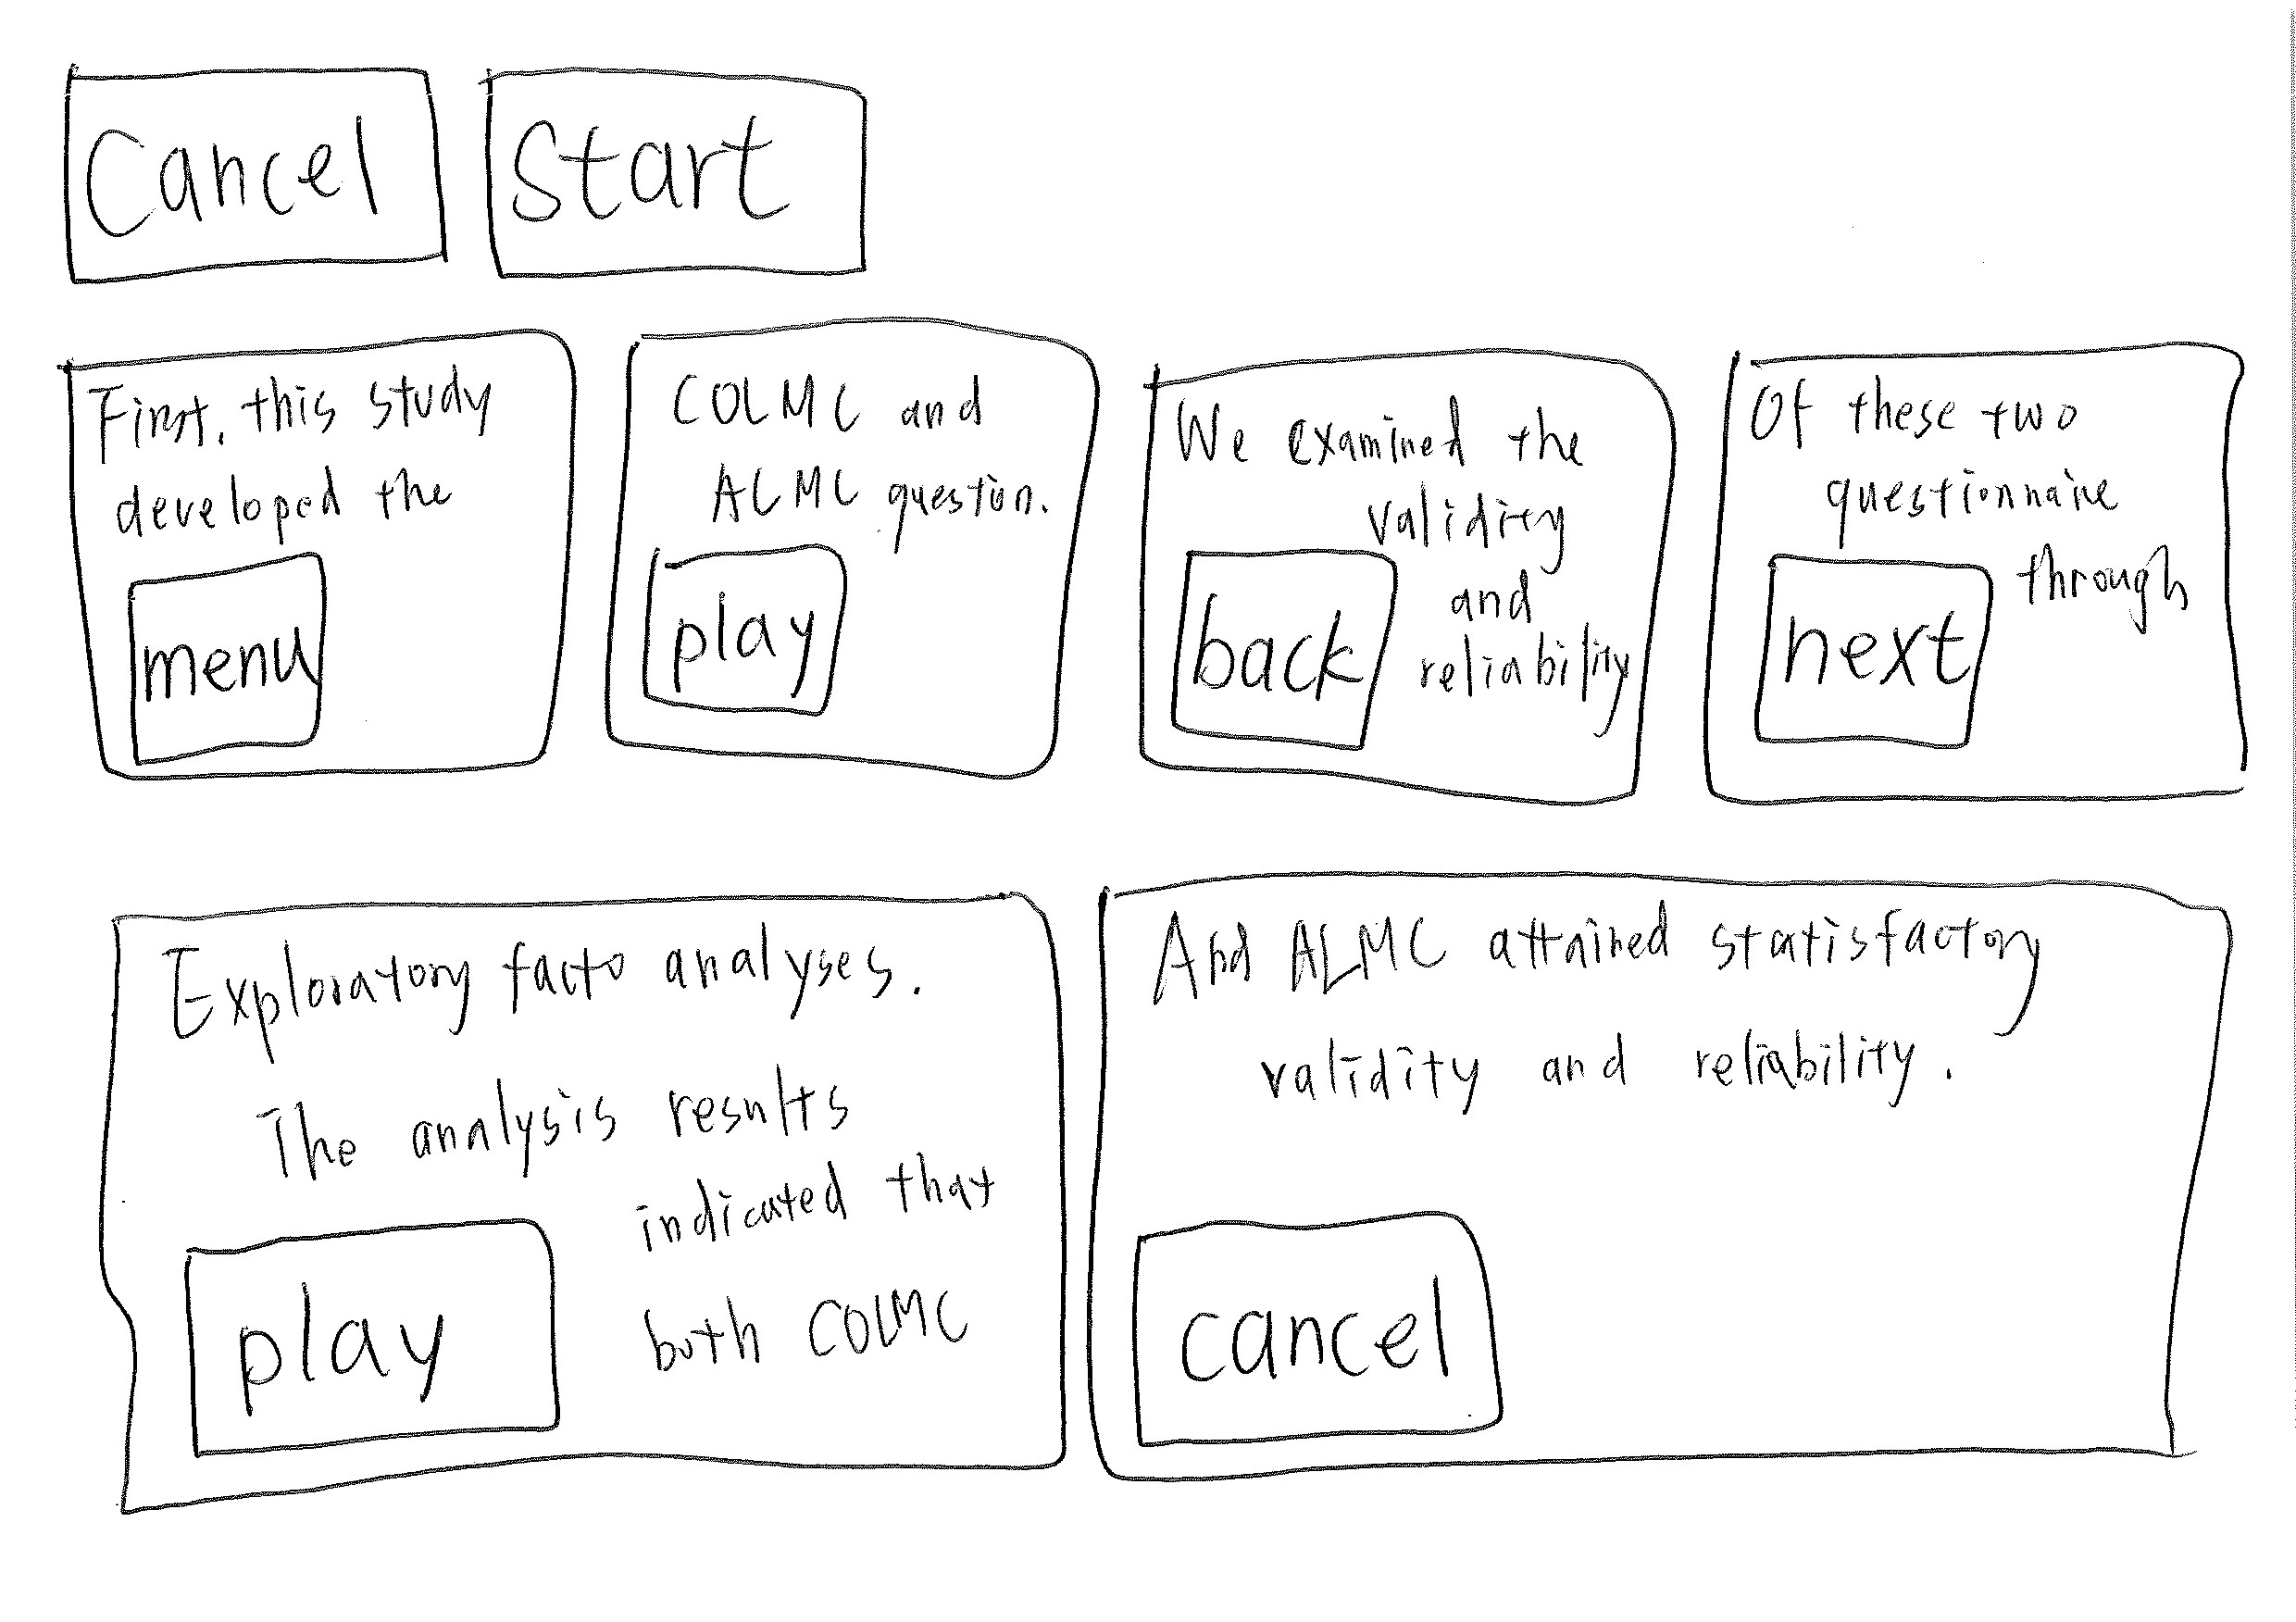back: (1171, 530, 1429, 751)
cancel: (1108, 1188, 1510, 1462), (46, 42, 458, 295)
double: (1080, 832, 2285, 1499), (61, 827, 1071, 1552)
menu: (107, 555, 349, 781)
next: (1724, 516, 2003, 772)
play: (172, 1192, 599, 1455), (628, 530, 862, 744)
quadruple: (1685, 300, 2270, 830), (1113, 298, 1697, 827), (32, 291, 602, 823), (599, 297, 1129, 822)
row: (12, 823, 2296, 1543), (12, 276, 2296, 848), (32, 19, 2296, 309)
small-title: (1153, 892, 2071, 1030), (147, 920, 941, 1044), (1183, 395, 1559, 481), (95, 372, 497, 448), (1754, 365, 2084, 448), (657, 360, 1018, 434)
start: (462, 30, 909, 309)
text: (606, 1104, 988, 1380), (1269, 1016, 1959, 1115), (240, 1073, 927, 1155), (1436, 525, 1610, 734), (97, 458, 486, 534), (1850, 453, 2126, 541), (2040, 504, 2185, 653), (707, 453, 1022, 514), (1366, 507, 1550, 541)
